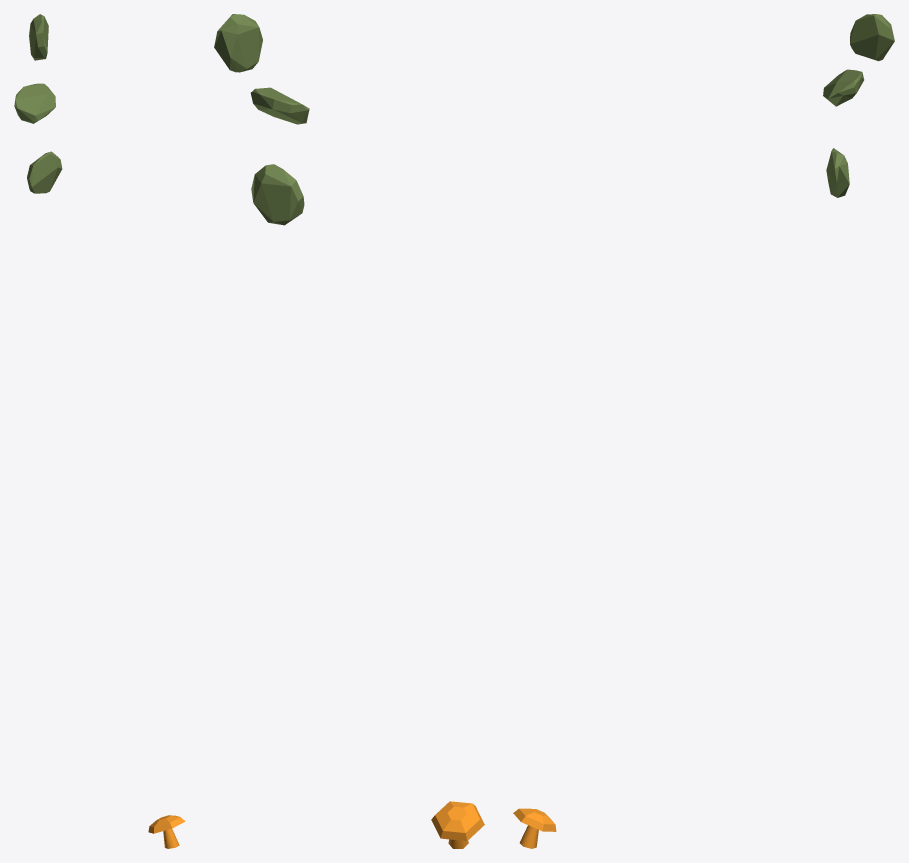
The picture shows the model from 3 angles, left to right: view 1: azimuth 30°, elevation 25°; view 2: azimuth 150°, elevation 25°; view 3: azimuth 270°, elevation 25°; orthographic projection. The views are drawn at different scales.
Visible parts, largest first — view 1: Box843_green3_0, Box672_green3_0, Box676_green3_0, Cylinder1487_orange_0; view 2: Box672_green3_0, Box676_green3_0, Cylinder1487_orange_0, Box843_green3_0; view 3: Box676_green3_0, Box843_green3_0, Cylinder1487_orange_0, Box672_green3_0.
Part boxes in pixels (x1=…): Box843_green3_0: x1=14, y1=83, x2=55, y2=123; Box672_green3_0: x1=27, y1=151, x2=62, y2=193; Box676_green3_0: x1=29, y1=14, x2=48, y2=60; Cylinder1487_orange_0: x1=148, y1=815, x2=185, y2=848; Box672_green3_0: x1=251, y1=164, x2=304, y2=225; Box676_green3_0: x1=214, y1=14, x2=262, y2=72; Cylinder1487_orange_0: x1=431, y1=801, x2=484, y2=848; Box843_green3_0: x1=250, y1=87, x2=309, y2=124; Box676_green3_0: x1=850, y1=14, x2=894, y2=61; Box843_green3_0: x1=823, y1=69, x2=864, y2=106; Cylinder1487_orange_0: x1=513, y1=808, x2=556, y2=848; Box672_green3_0: x1=826, y1=148, x2=849, y2=197.
Bounding box in the file's own units: 92.28 × 1289 × 529.
